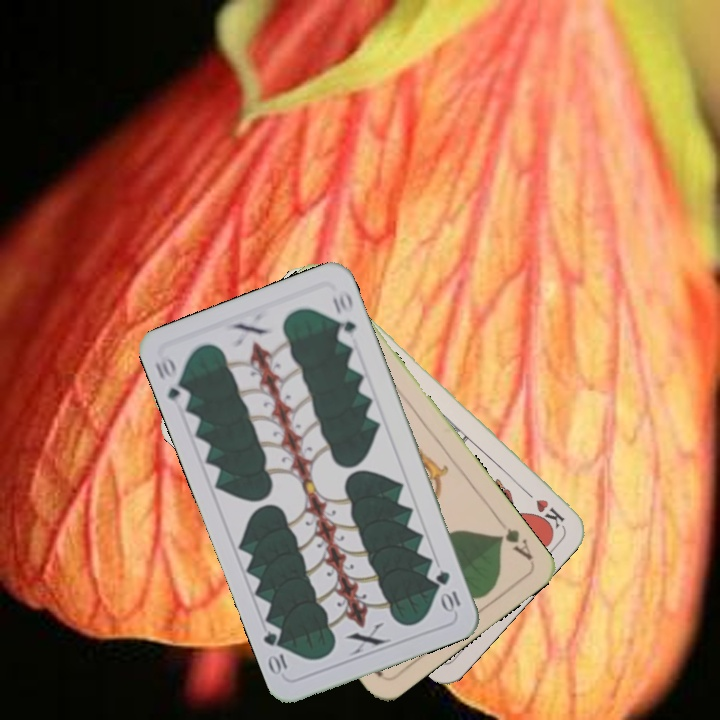G10: (151, 351, 193, 410), (431, 566, 463, 615)
GA: (493, 523, 535, 563)
HK: (517, 483, 568, 530)
